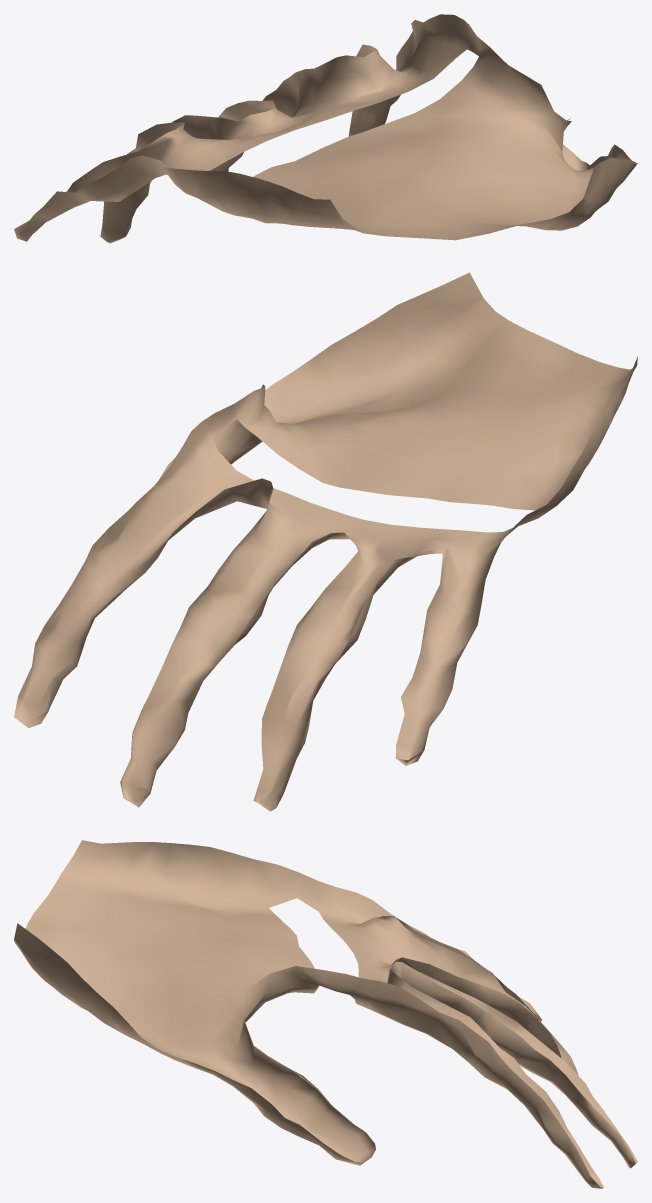
3 renders of one model, top to bottom at view 1: azimuth 30°, elevation 25°; view 2: azimuth 150°, elevation 25°; view 3: azimuth 270°, elevation 25°, orthographic. The views are drawn at different scales.
Visible parts, largest first — view 1: 左侧掌腱膜; view 2: 左侧掌腱膜; view 3: 左侧掌腱膜.
Part boxes in pixels (left/top/right/bottom): 左侧掌腱膜: left=14, top=14, right=637, bottom=243; 左侧掌腱膜: left=14, top=272, right=637, bottom=811; 左侧掌腱膜: left=14, top=840, right=637, bottom=1188.
Size of the model in its own units: 0.1611 by 0.1004 by 0.2299.
